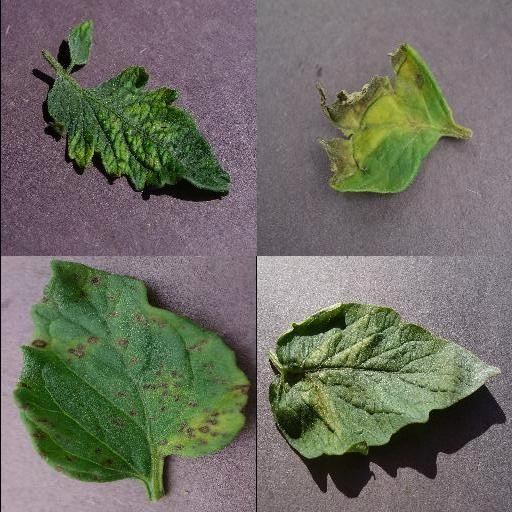Late Blight: (313, 43, 457, 195)
Mosaic Virus: (46, 66, 232, 195), (66, 18, 95, 68)
Septoria: (15, 260, 251, 484)
Spider Mites: (269, 304, 503, 458)
